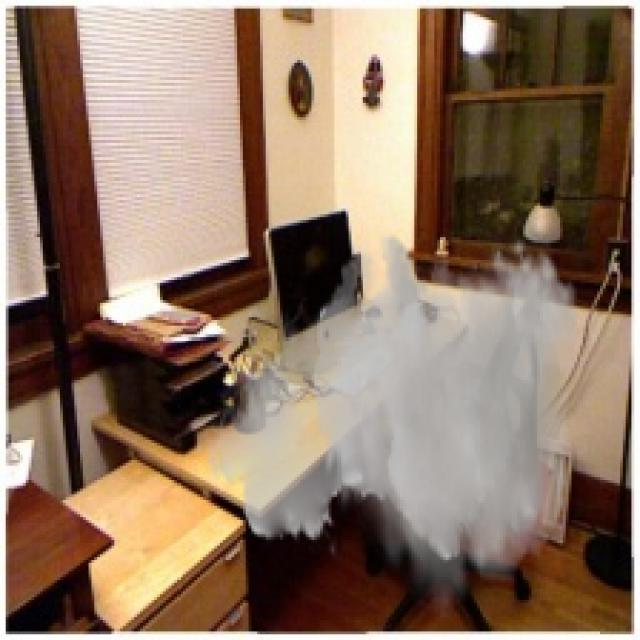smoke: (194, 231, 580, 626)
